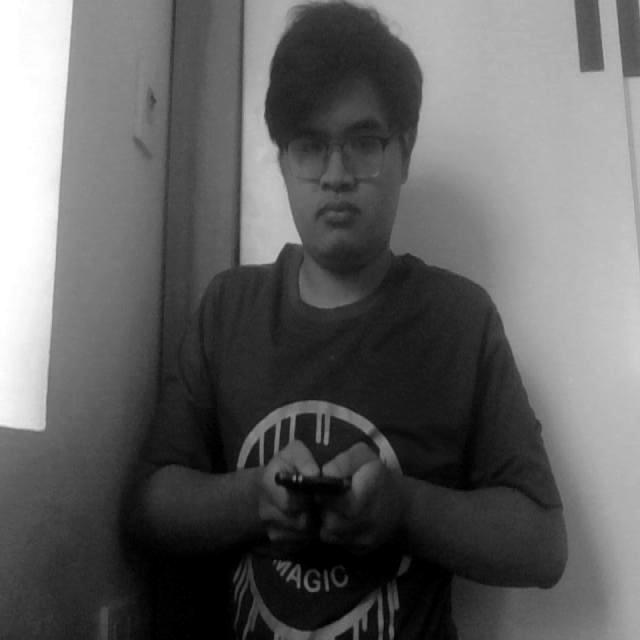phone: (269, 442, 363, 526)
